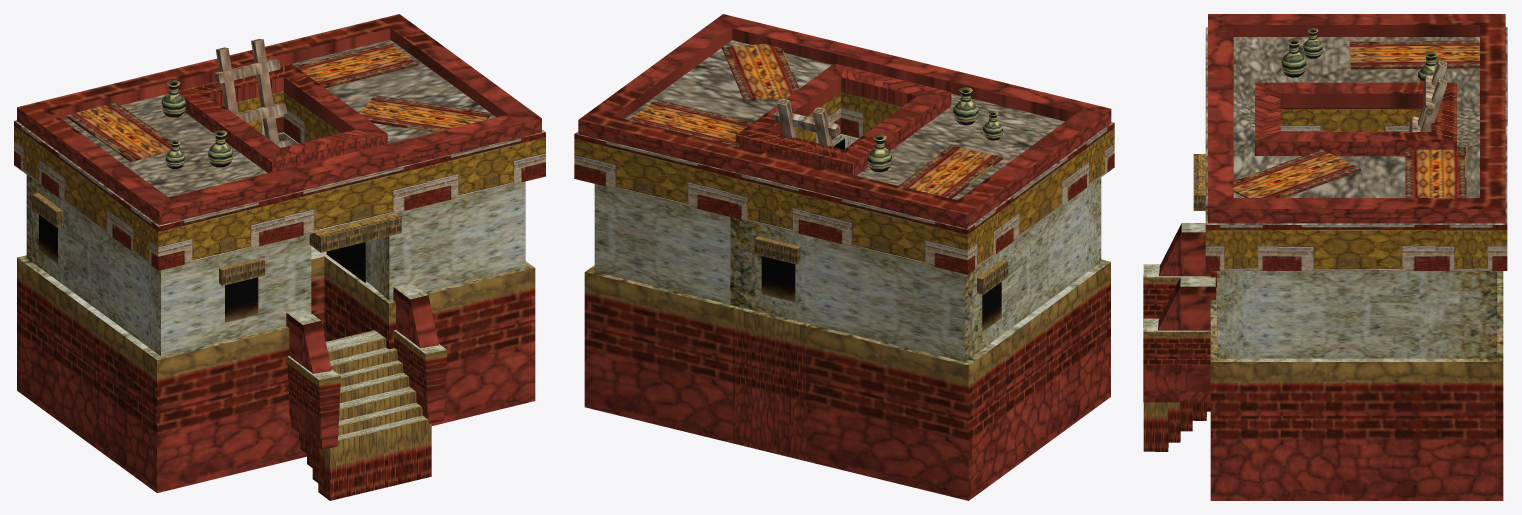
The model's file is house_3.dae.
The picture shows the model from 3 angles, left to right: view 1: azimuth 30°, elevation 25°; view 2: azimuth 150°, elevation 25°; view 3: azimuth 270°, elevation 25°; orthographic projection. The views are drawn at different scales.
Parts seen in each view (by area): view 1: house_3; view 2: house_3; view 3: house_3.
Part boxes in pixels (<box>): house_3: <box>14,14,545,500</box>; house_3: <box>574,14,1114,500</box>; house_3: <box>1143,14,1507,500</box>.
Size of the model in its own units: 17.42 by 13.58 by 14.62.
